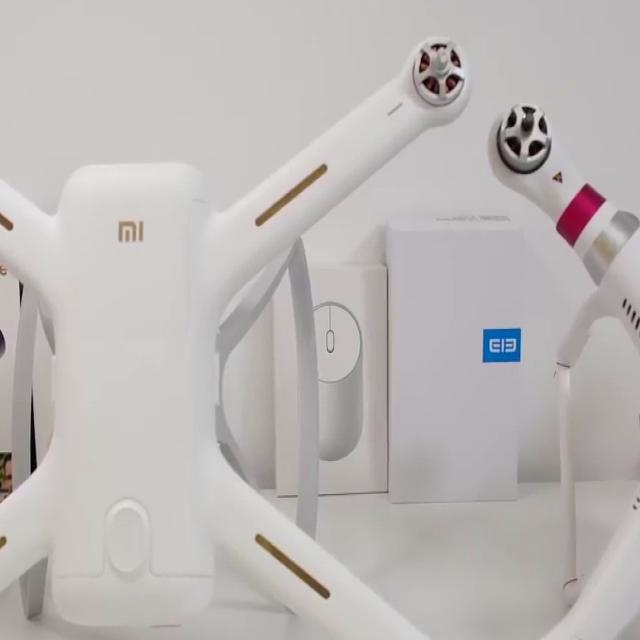drone: (0, 28, 494, 640), (479, 81, 640, 640)
